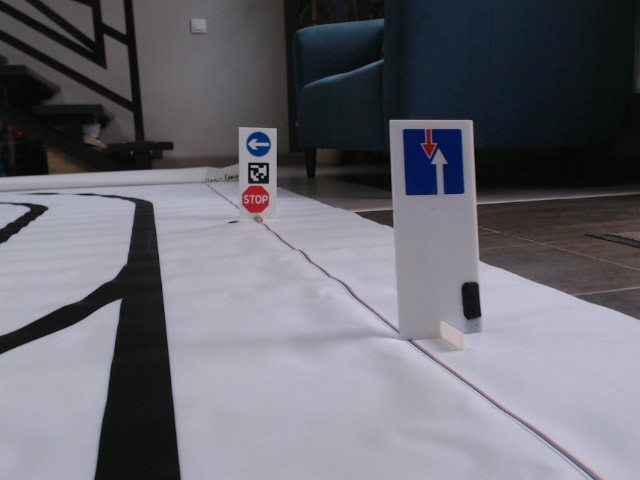Stop: (240, 185, 269, 213)
priority_movement: (399, 126, 466, 197)
